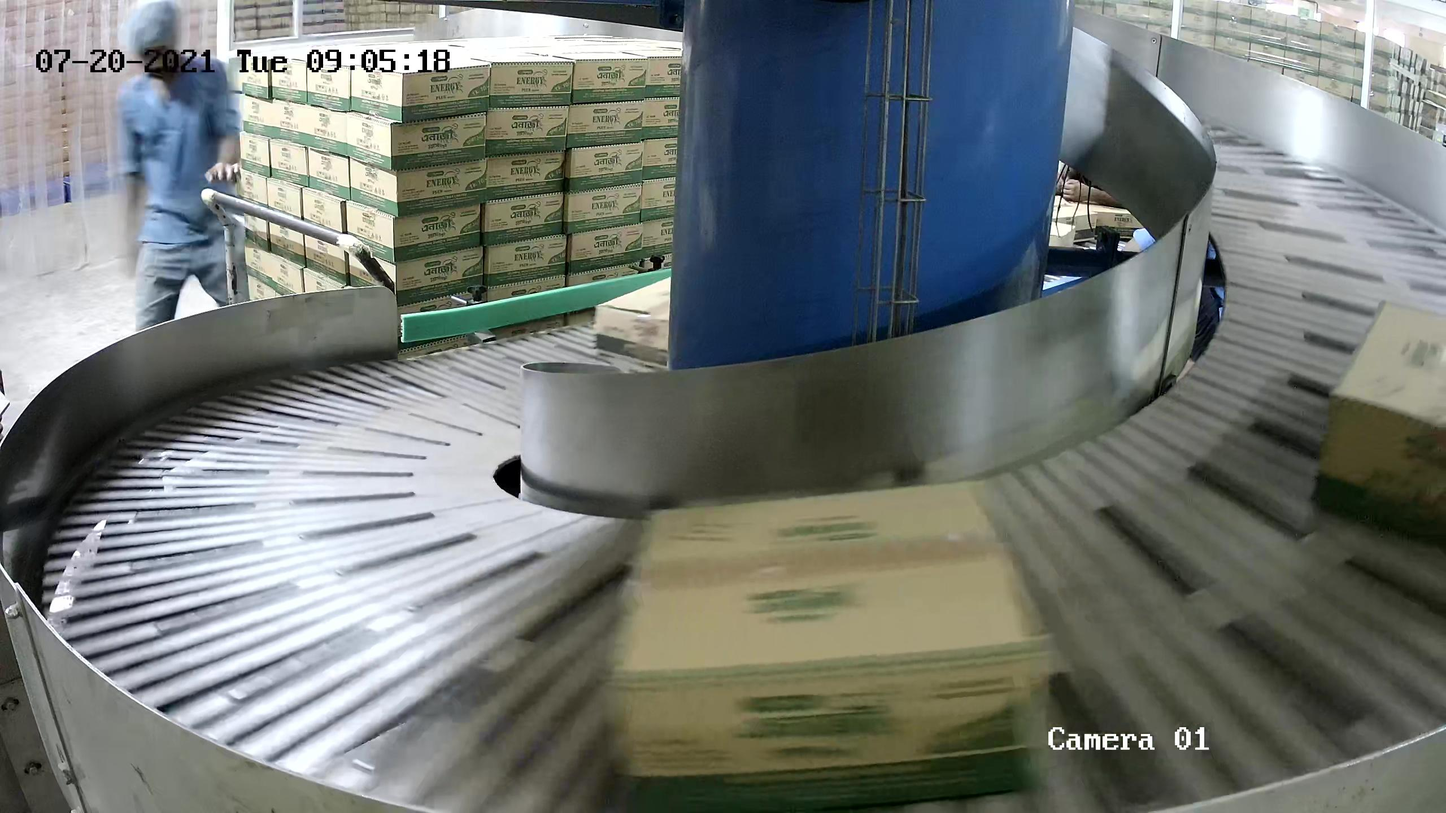Box: (605, 480, 1056, 813), (1313, 297, 1446, 548), (593, 276, 671, 369)
